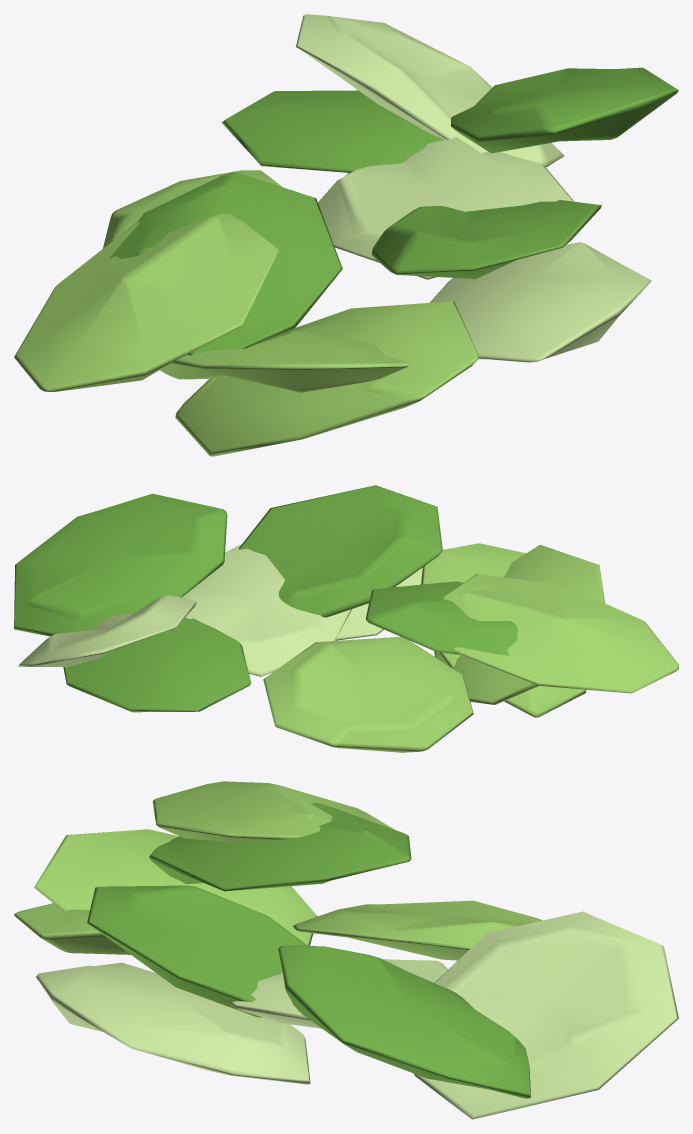
File: Lettuce_Chopped.glb
The picture shows the model from 3 angles, top to bottom: view 1: azimuth 30°, elevation 25°; view 2: azimuth 150°, elevation 25°; view 3: azimuth 270°, elevation 25°; orthographic projection. The views are drawn at different scales.
Visible parts, largest first — view 1: Lettuce_Chopped; view 2: Lettuce_Chopped; view 3: Lettuce_Chopped.
Boxes of the visible parts, x1,y1,x2,y2 form: Lettuce_Chopped: (14, 14, 678, 456); Lettuce_Chopped: (14, 485, 678, 752); Lettuce_Chopped: (14, 781, 678, 1119).
Size of the model in its own units: 0.1493 by 0.0373 by 0.1244.
